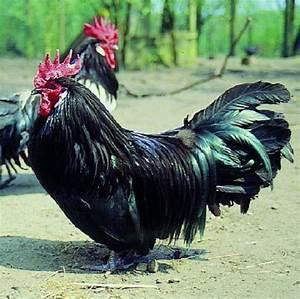hen: (23, 46, 294, 274), (0, 14, 120, 190)
